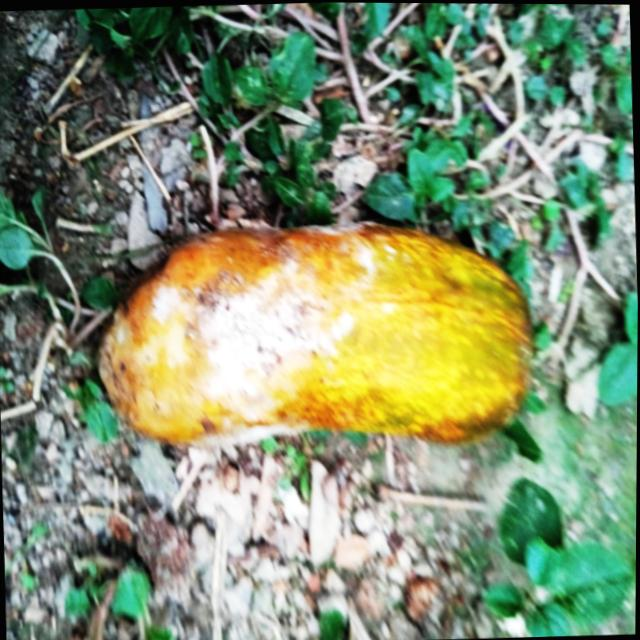Pythium-Fruit-Rot: (145, 214, 359, 449)
